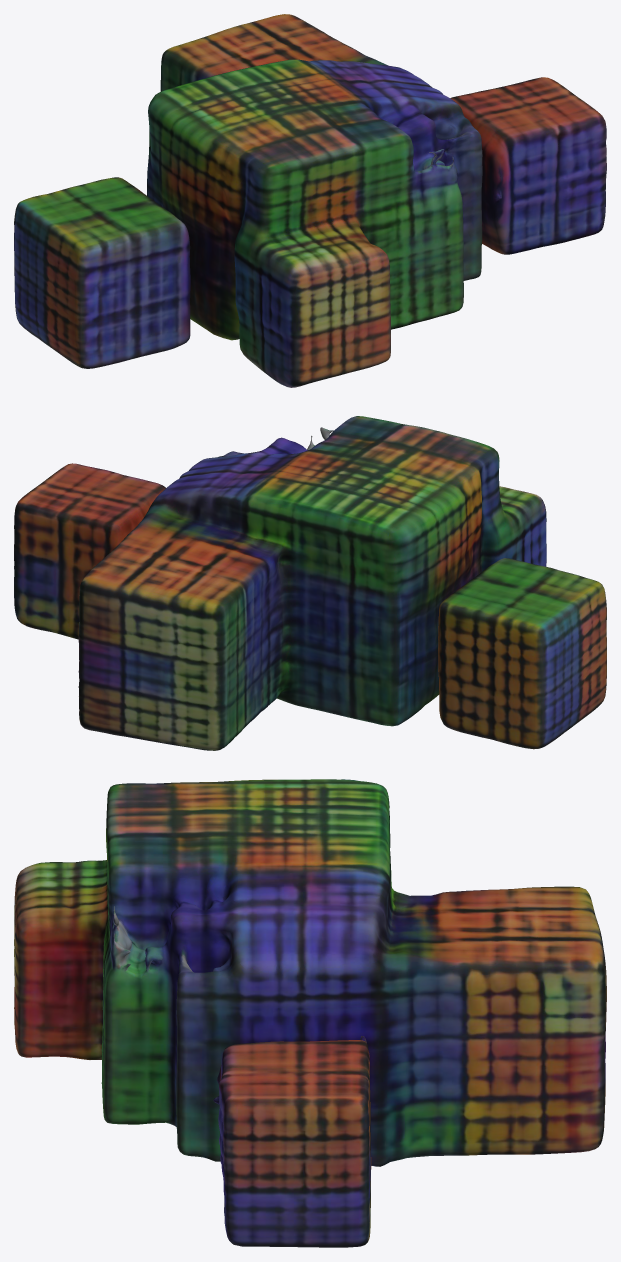
File: 2ad7ec58b0ca_cubes__3d_asset_0_g.fbx
The picture shows the model from 3 angles, top to bottom: view 1: azimuth 30°, elevation 25°; view 2: azimuth 150°, elevation 25°; view 3: azimuth 270°, elevation 25°; orthographic projection. The views are drawn at different scales.
Parts seen in each view (by area): view 1: high_poly; view 2: high_poly; view 3: high_poly.
Boxes of the visible parts, x1,y1,x2,y2 form: high_poly: [14, 14, 606, 387]; high_poly: [14, 416, 606, 750]; high_poly: [14, 779, 606, 1247].
Bounding box in the file's own units: 100 × 36.26 × 77.08.
